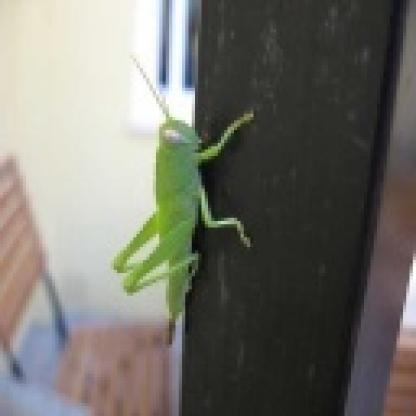grasshopper: (111, 55, 260, 341)
